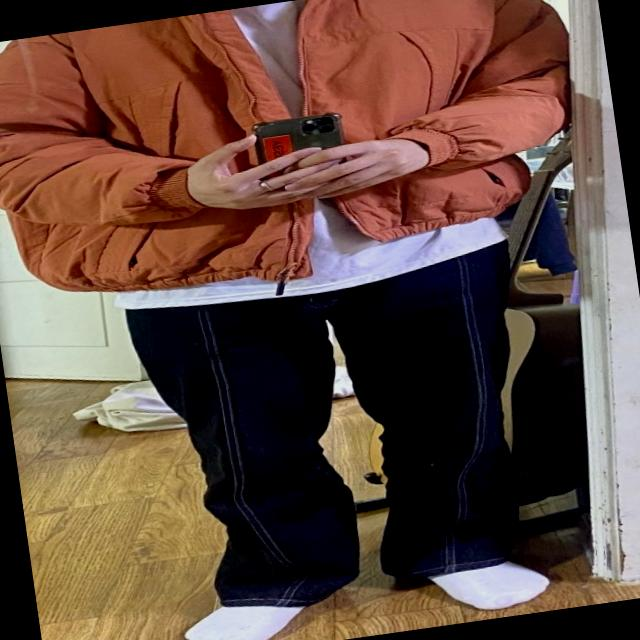denimpants: (128, 240, 552, 620)
padding: (0, 0, 593, 319)
